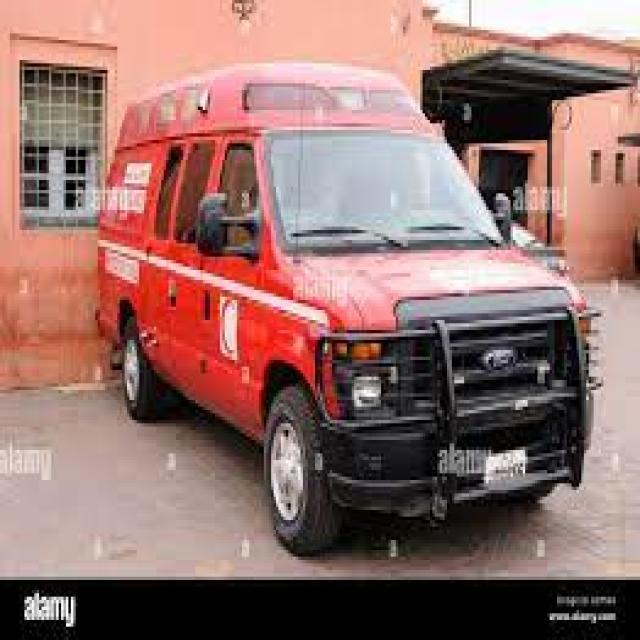ambulance: (85, 51, 607, 567)
